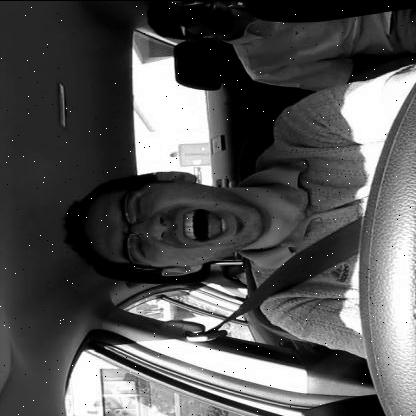seatbelt: (53, 138, 359, 326)
